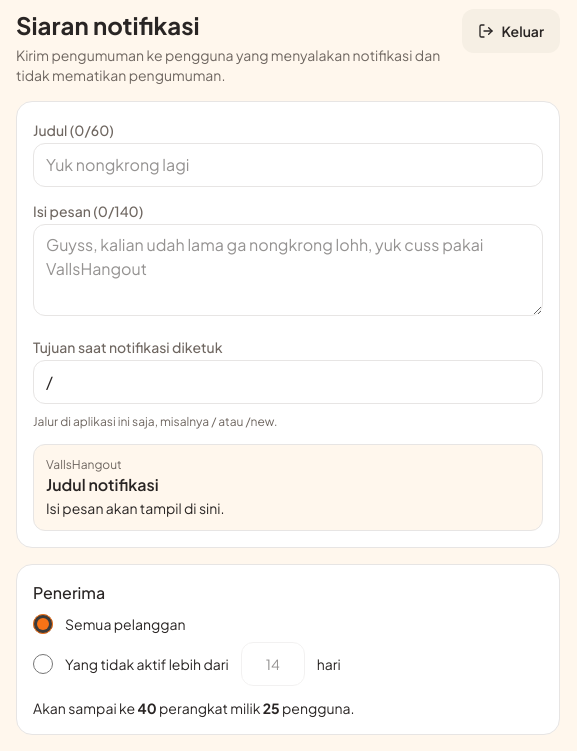
it: <AdminPush /> form dan penerima › memuat riwayat dan jumlah penerima; penghitung karakter dan batas panjang terpasang
Expected: the text "Akan sampai ke 40 perangkat milik 25 pengguna." is shown, [33, 699, 355, 717]
Expected: the text "Judul (0/60)" is shown, [33, 121, 114, 139]
Type "Halo" into the field labelled "Judul (0/60)". click: (288, 165)
box: [33, 143, 543, 187]
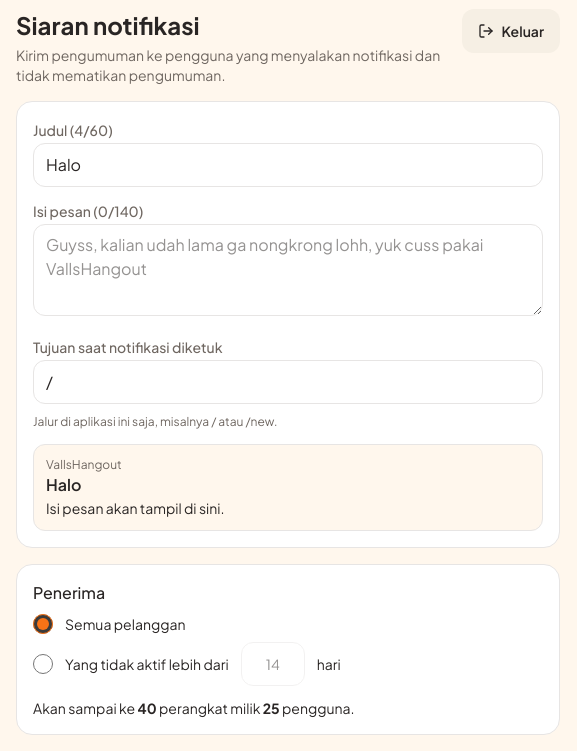
Replace the text in the text box labelled "Isi pesan (0/140)" with "abc". click: (288, 270)
box: [33, 224, 543, 316]
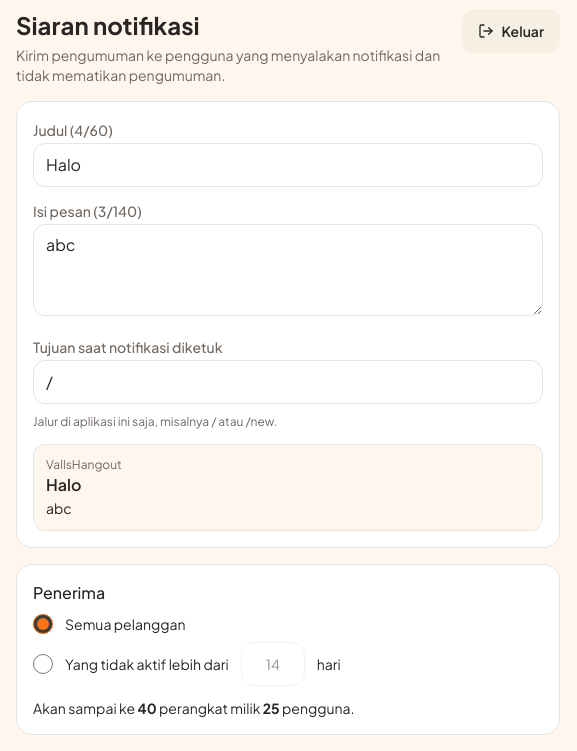
Expected: the text "Judul (4/60)" is shown, [33, 121, 113, 139]
Expected: the text "Isi pesan (3/140)" is shown, [33, 202, 142, 220]
